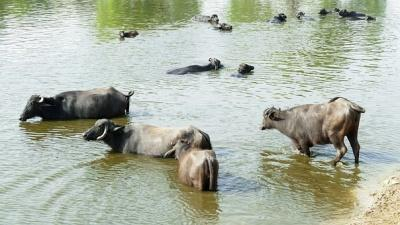buffalo: (20, 87, 218, 190), (260, 97, 364, 164)
